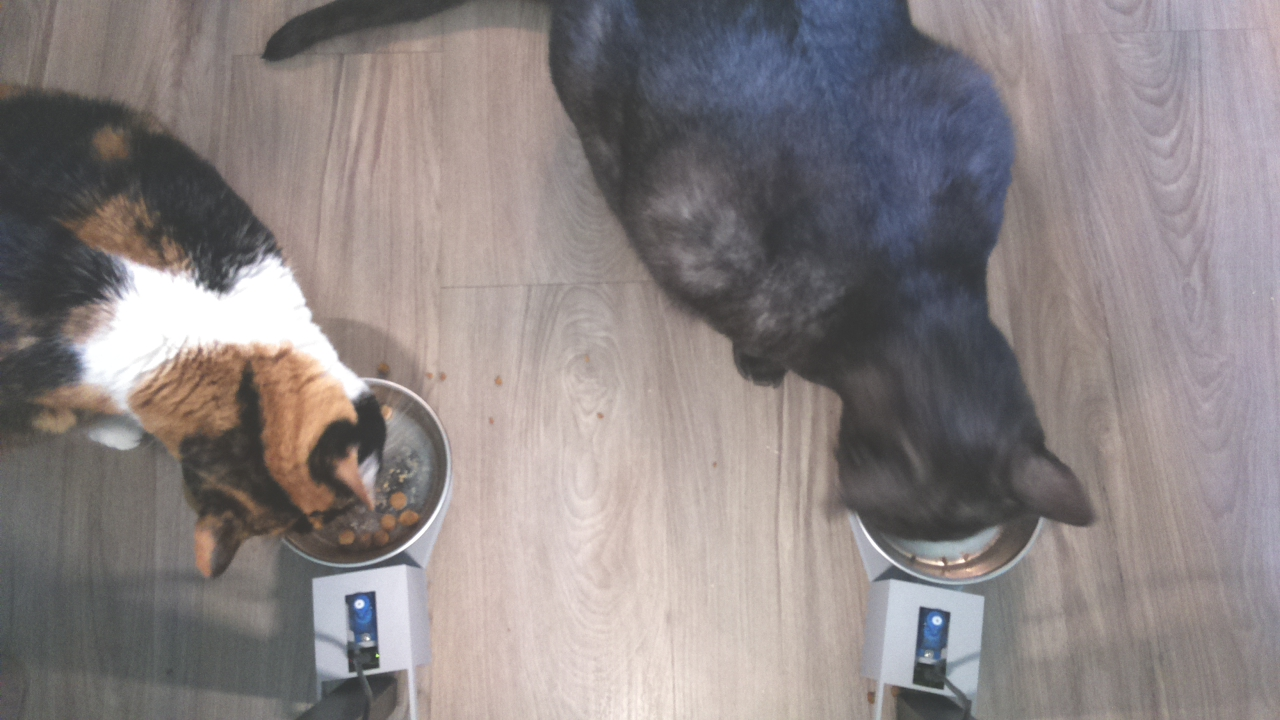bella_eating: (152, 308, 466, 583)
saki_eating: (765, 343, 1106, 593)
